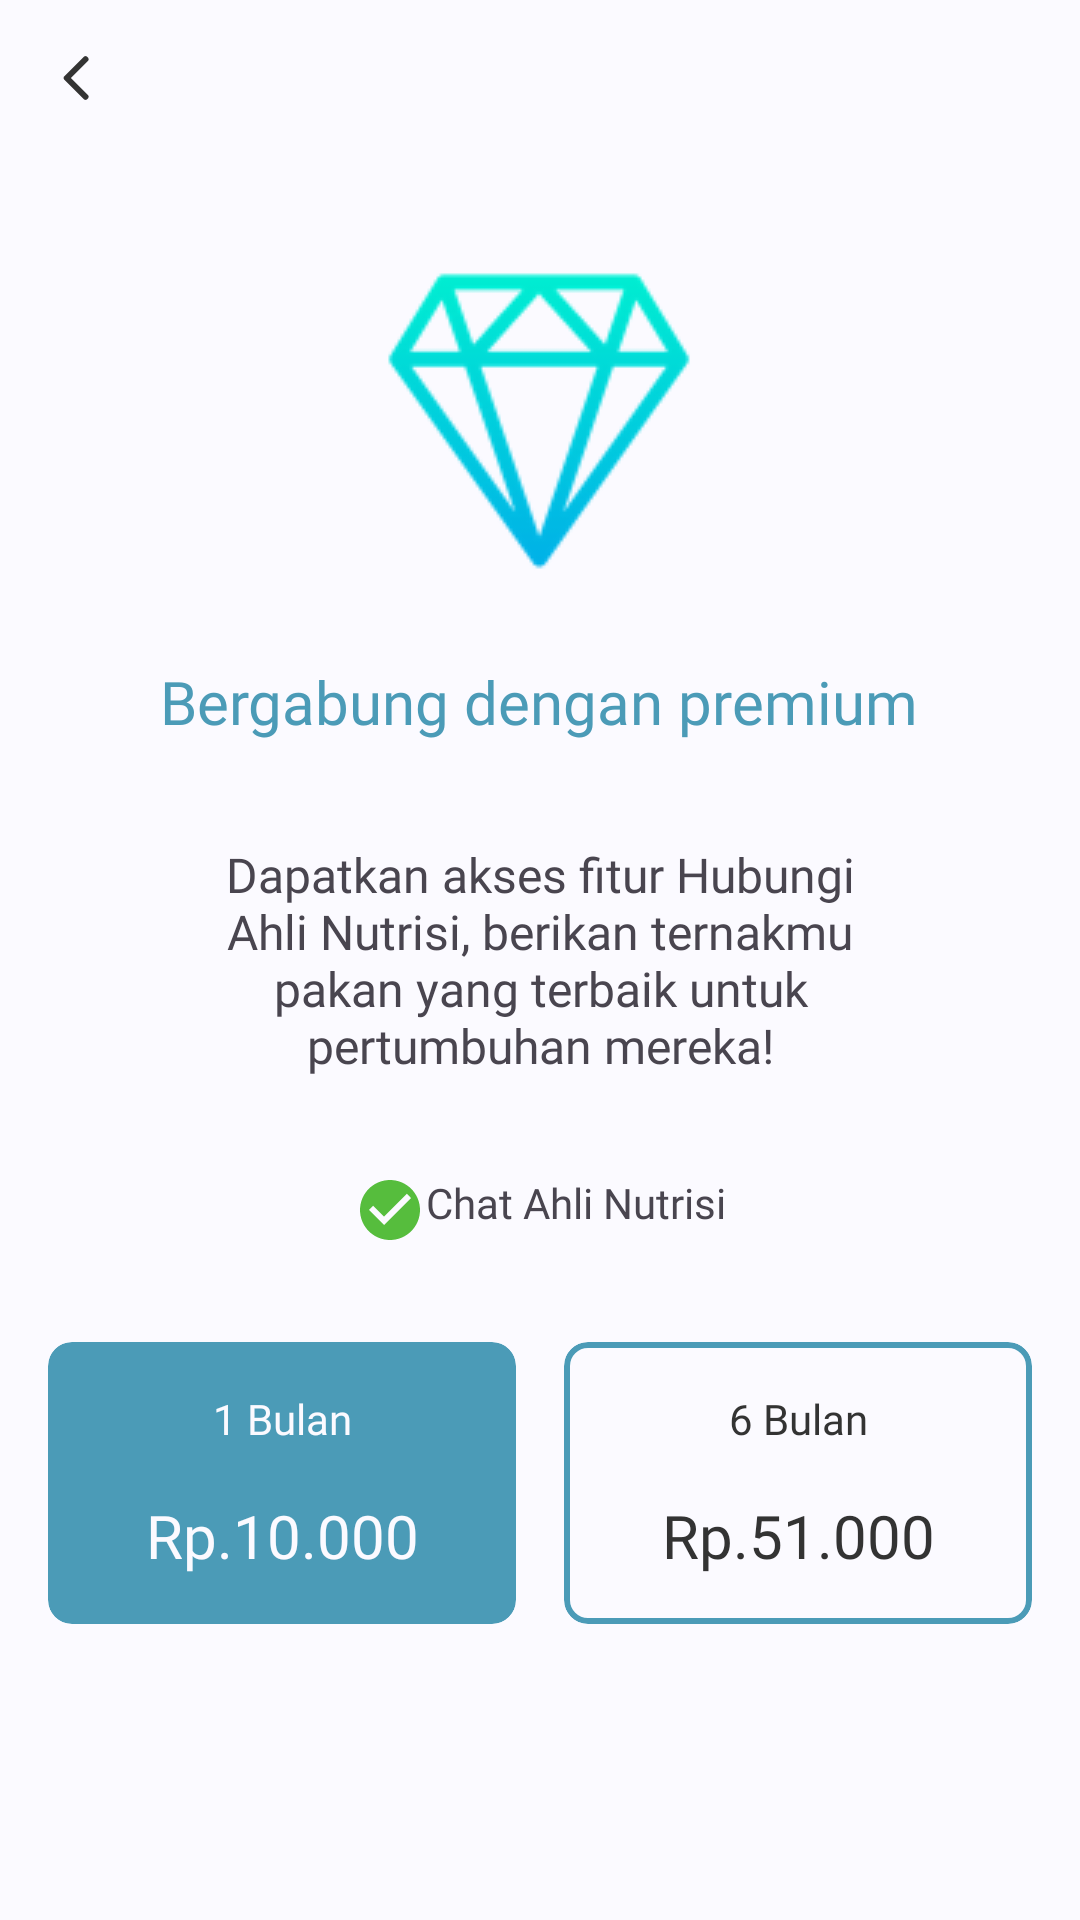

Icon click points for this 1080 × 1920 phone screenshot, format point (x, y):
caretleft: point (76, 78)
diamond: point (539, 421)
